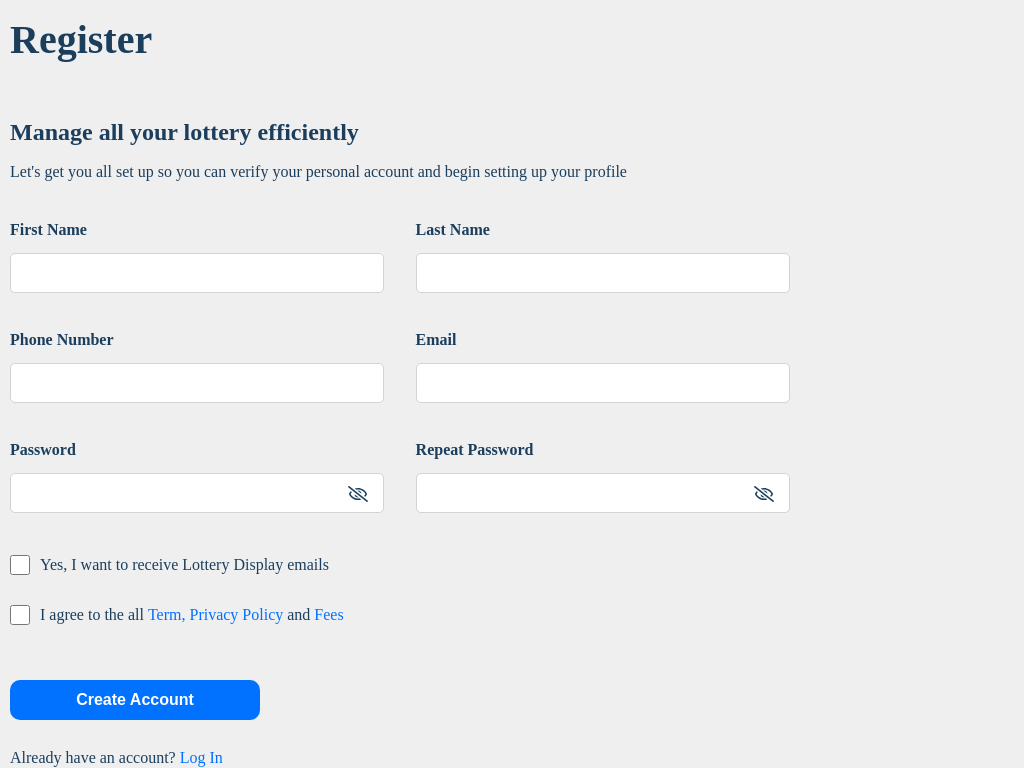
Test: registration-form tests › actions tests › should show error on ivalid first name input
Type "123 Invalid" into the field with id "first-name". click: (197, 272)
box: [10,252,384,292]
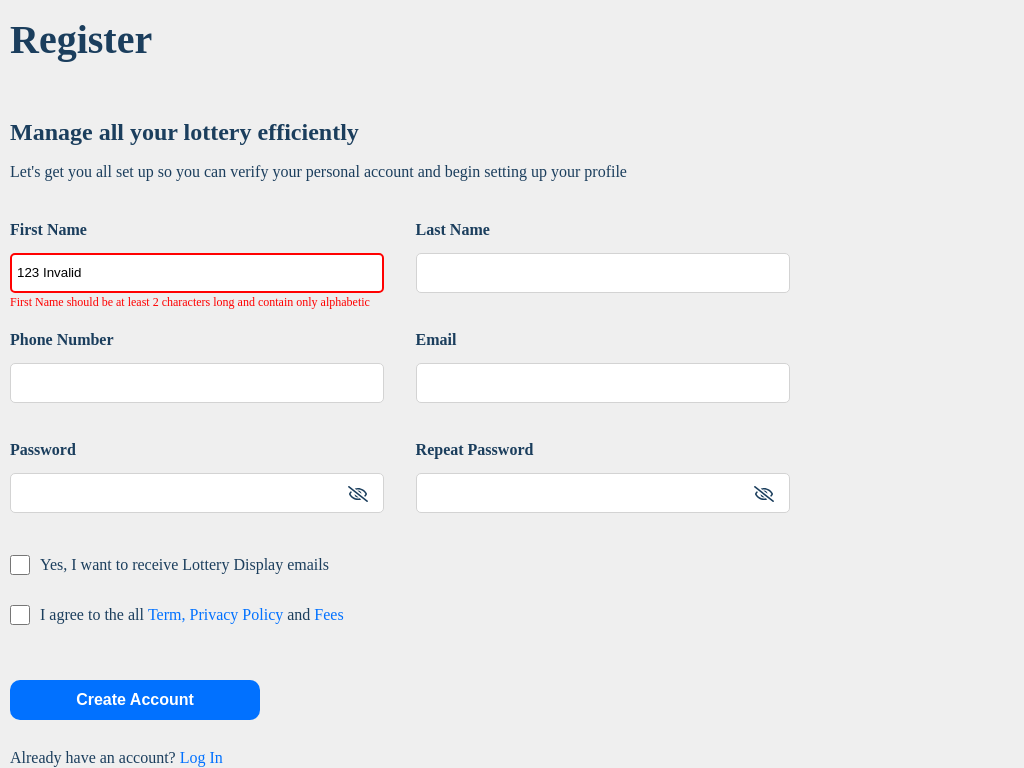
expect the text "First Name should be at least 2 characters long and contain only alphabetic" is shown: met, box [10,292,370,312]
